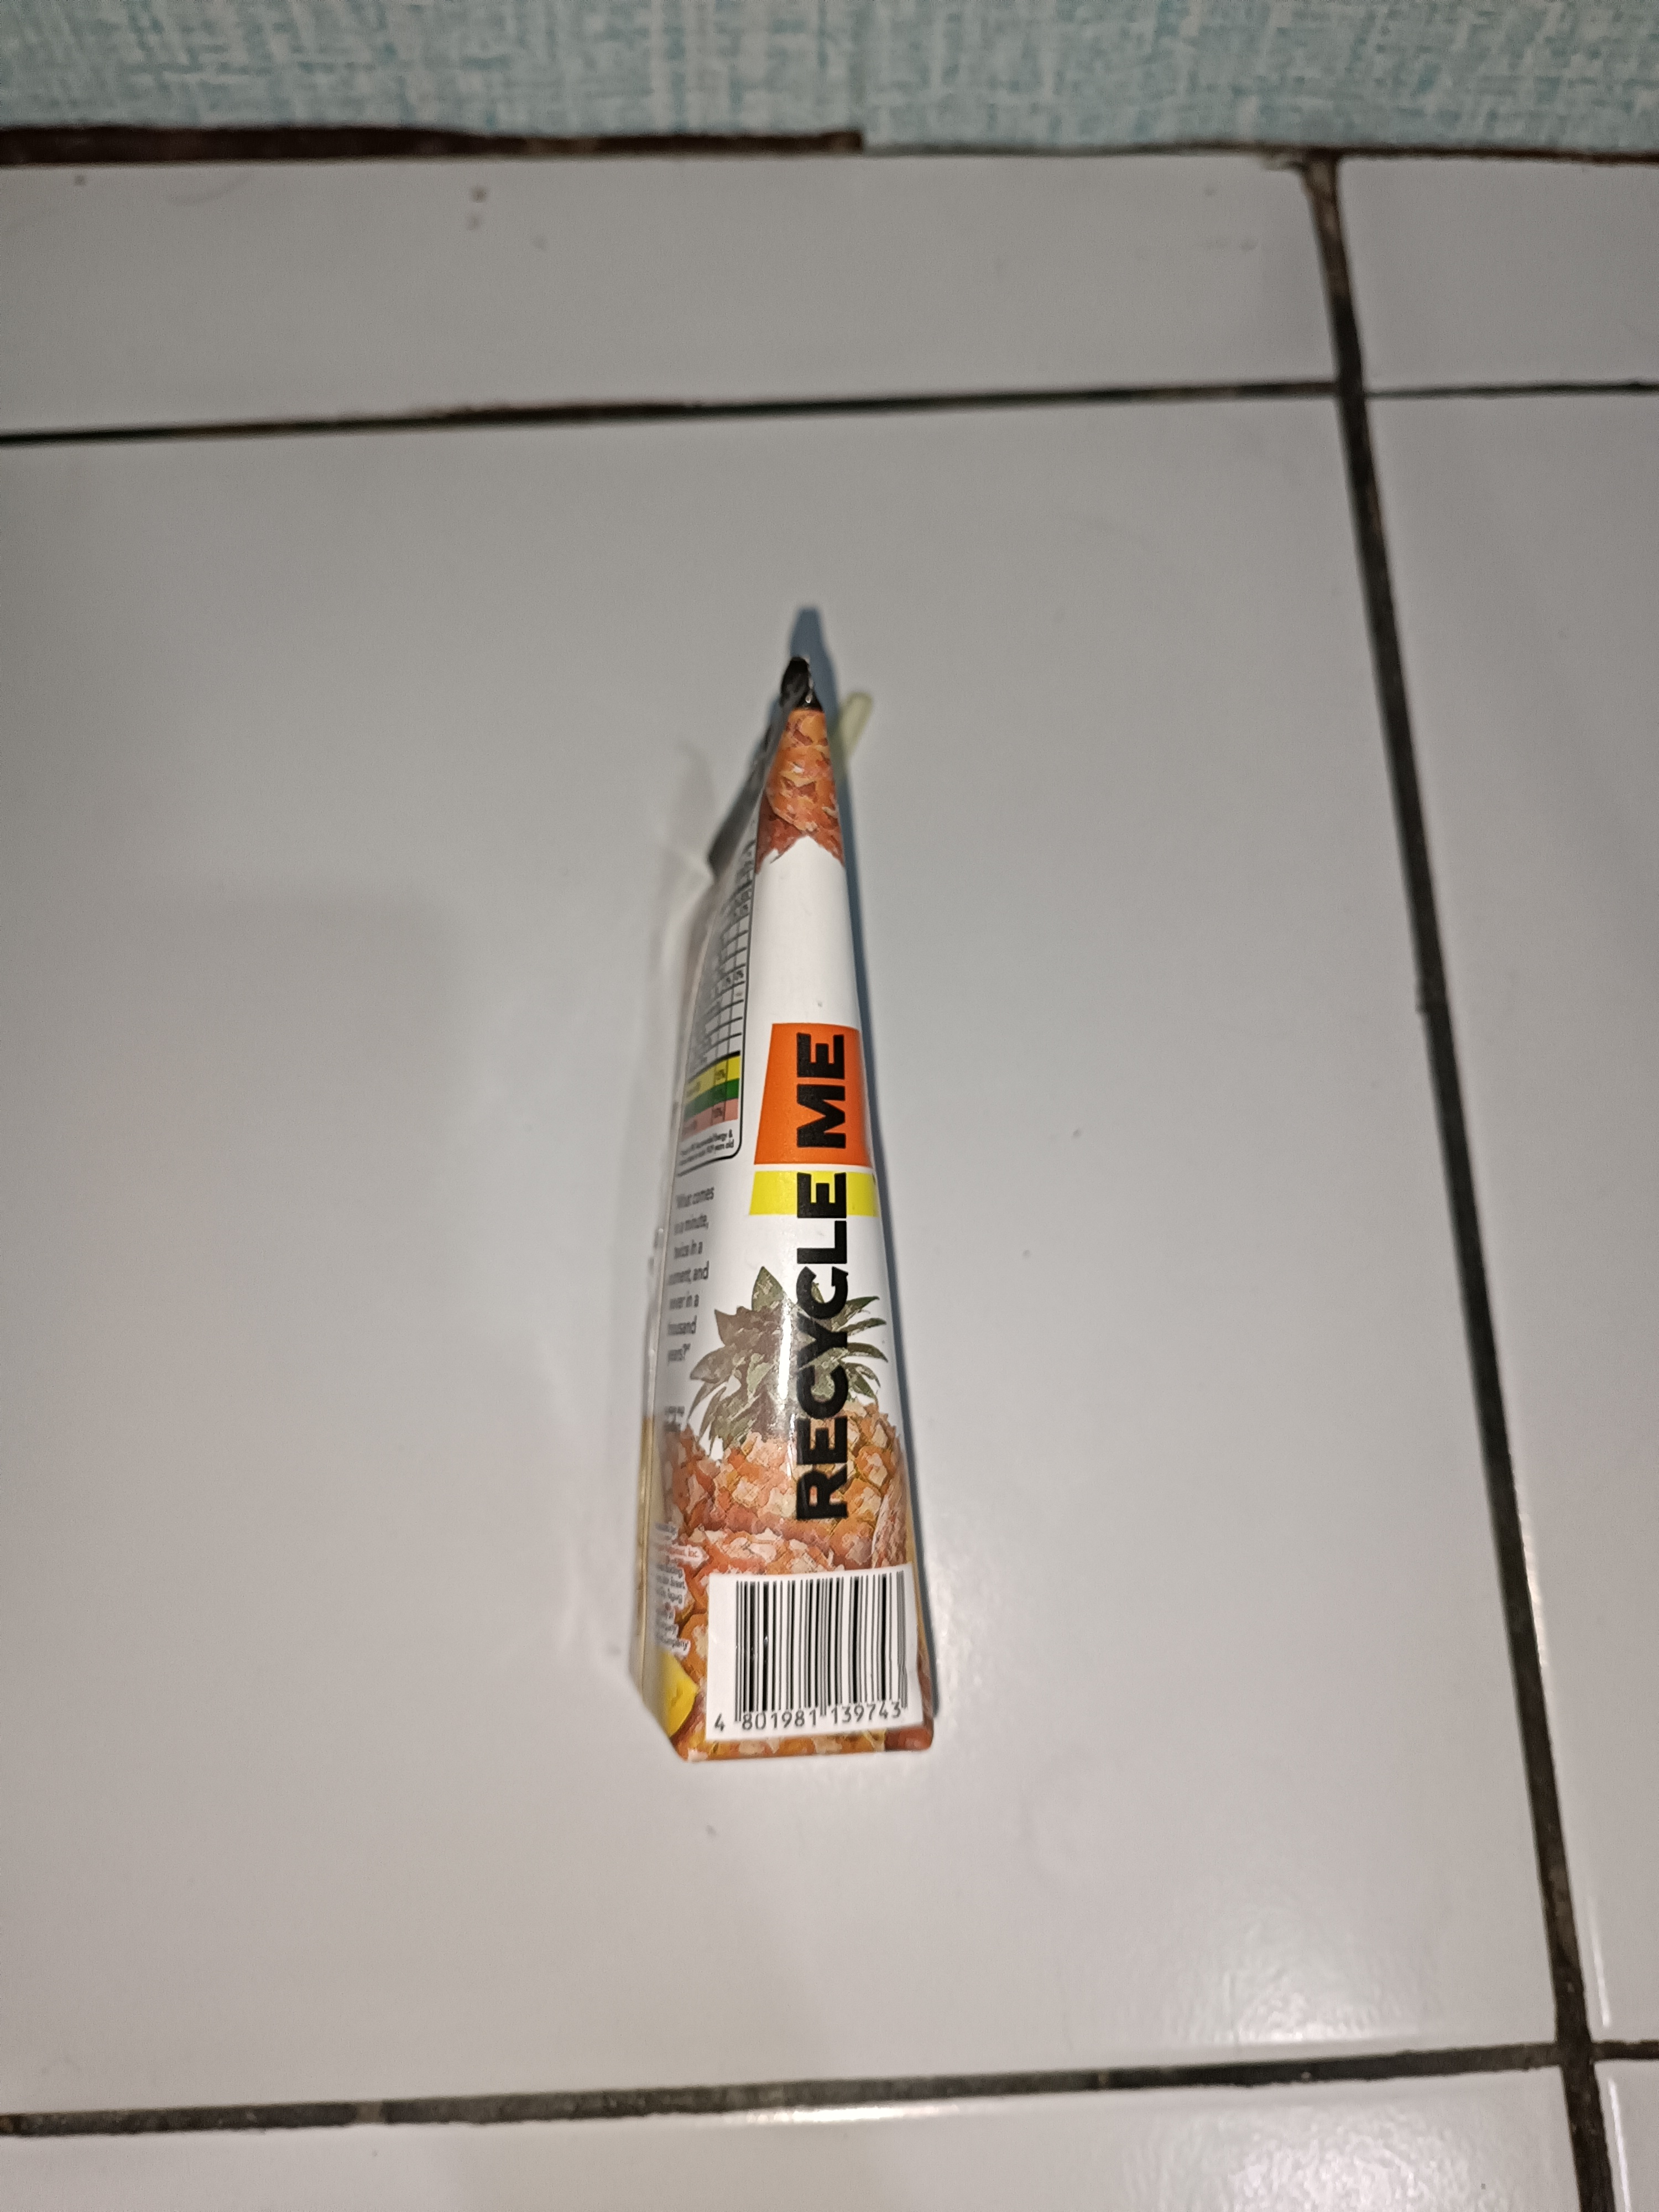Juice Box: (486, 594, 1042, 1787)
